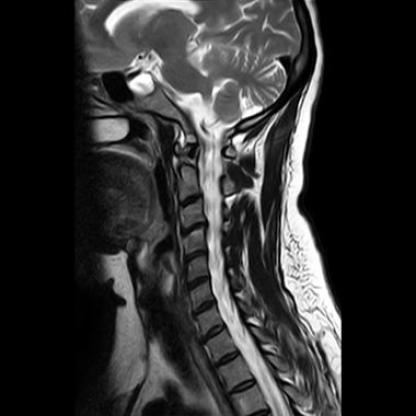Disc Bulgerotation: (179, 221, 205, 239), (182, 249, 209, 263)
